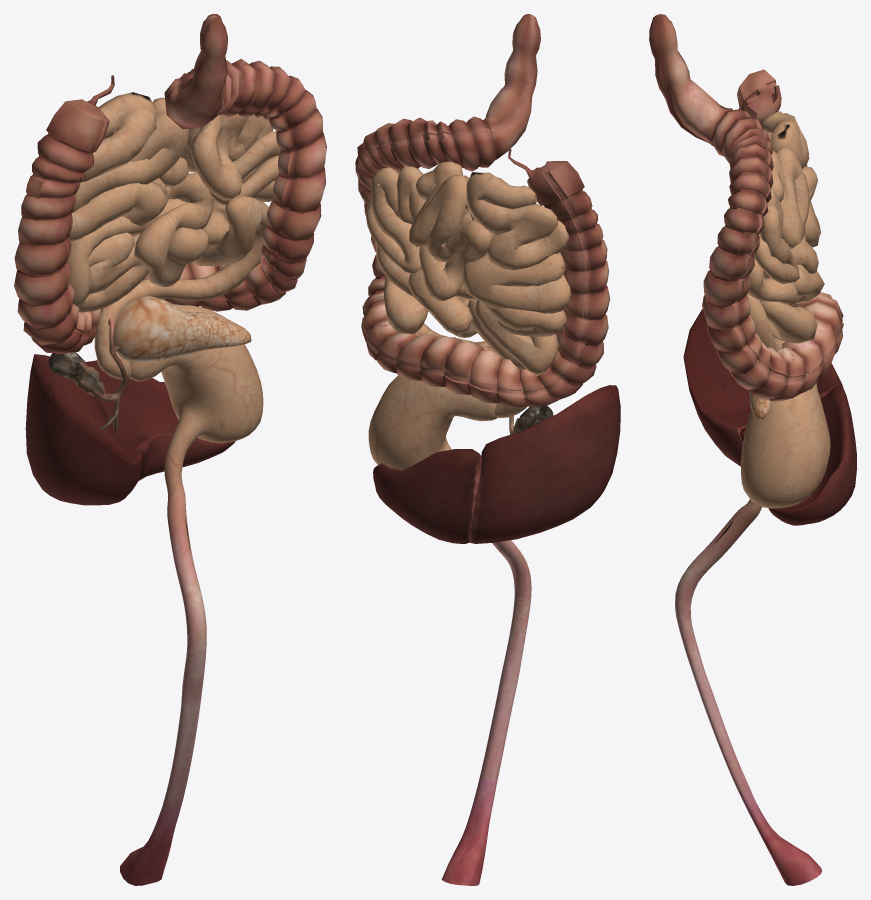
3 renders of one model, left to right at view 1: azimuth 30°, elevation 25°; view 2: azimuth 150°, elevation 25°; view 3: azimuth 270°, elevation 25°, orthographic. The views are drawn at different scales.
Parts seen in each view (by area): view 1: DigestiveSystem; view 2: DigestiveSystem; view 3: DigestiveSystem.
Boxes of the visible parts, bbox=[...] form: DigestiveSystem: bbox=[14, 14, 326, 885]; DigestiveSystem: bbox=[355, 14, 620, 885]; DigestiveSystem: bbox=[649, 14, 856, 885].
Size of the model in its own units: 22.71 by 67.72 by 14.76.
1 material, 1 textured.
